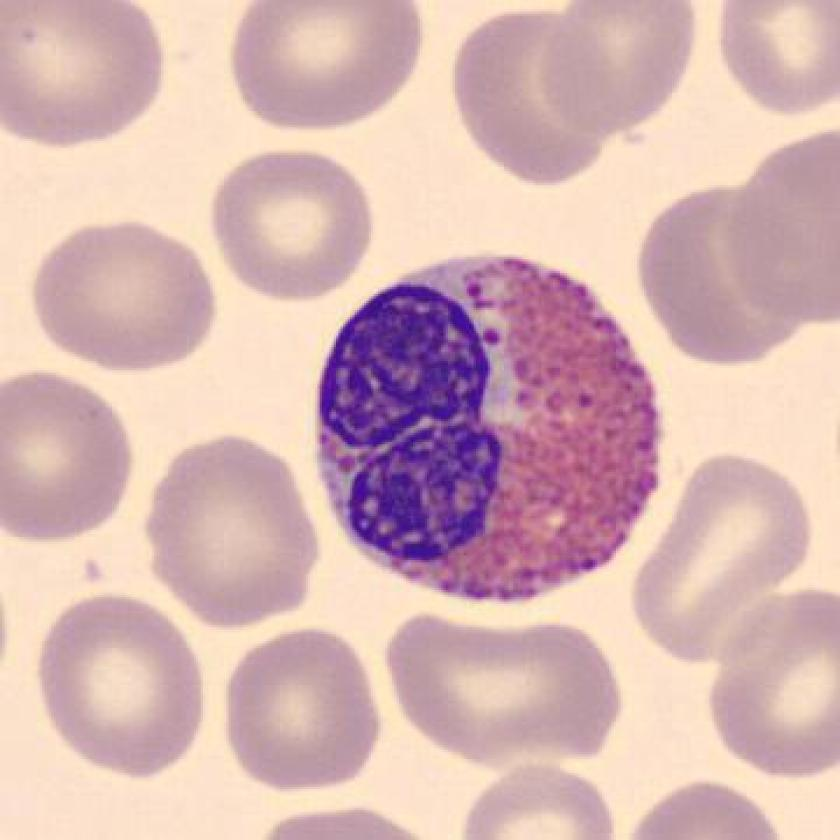eosinophil: (309, 247, 673, 608)
